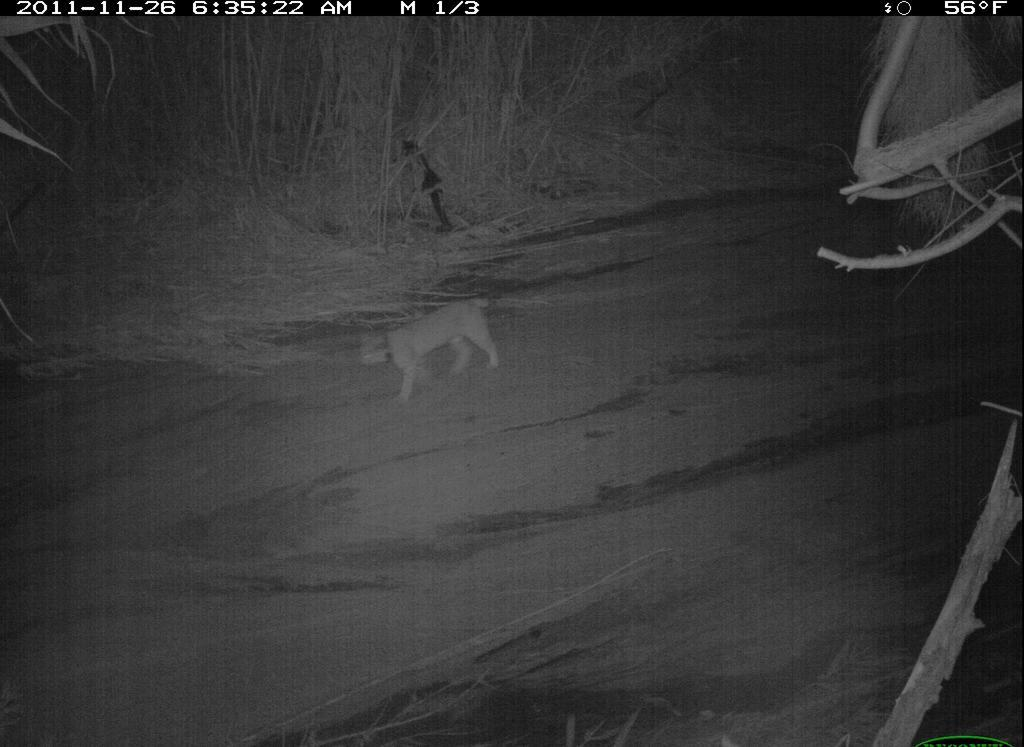bobcat: (353, 287, 519, 409)
